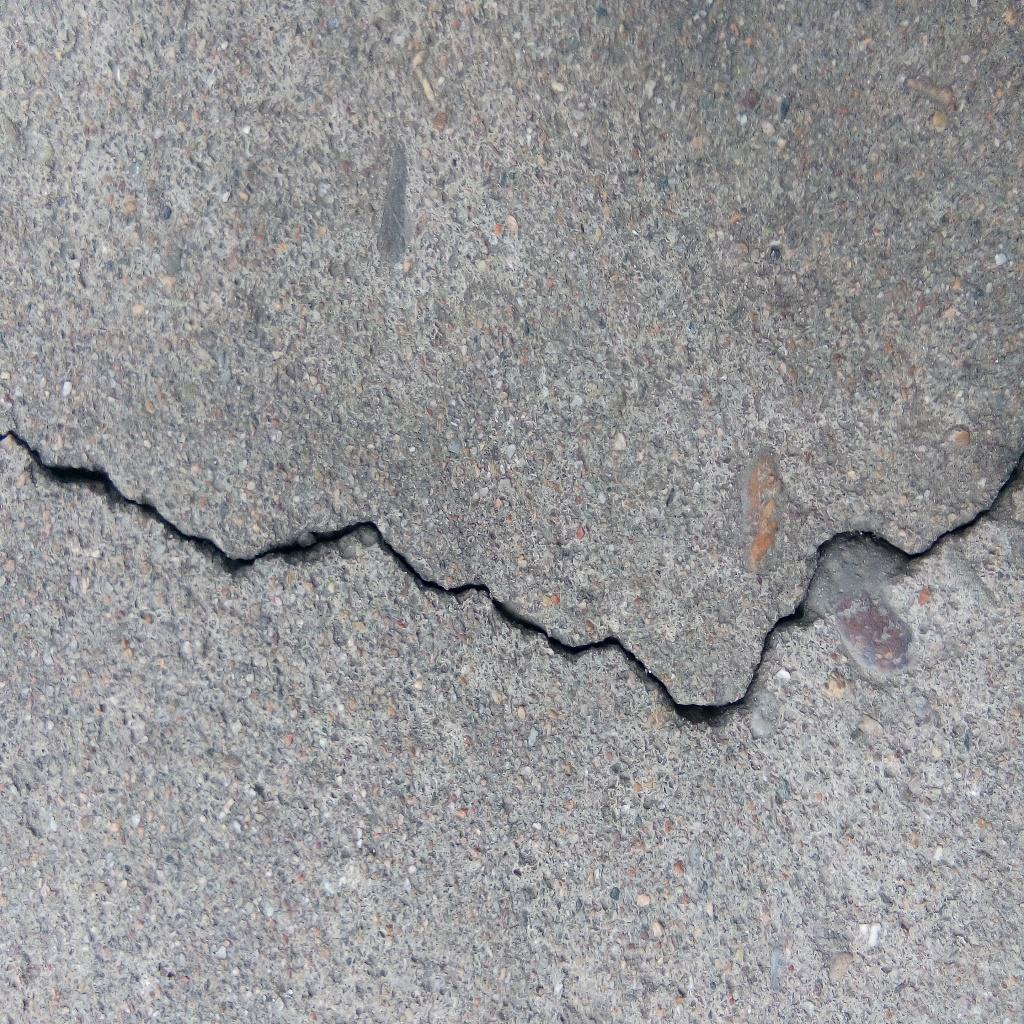Crack: (1, 425, 1024, 721)
